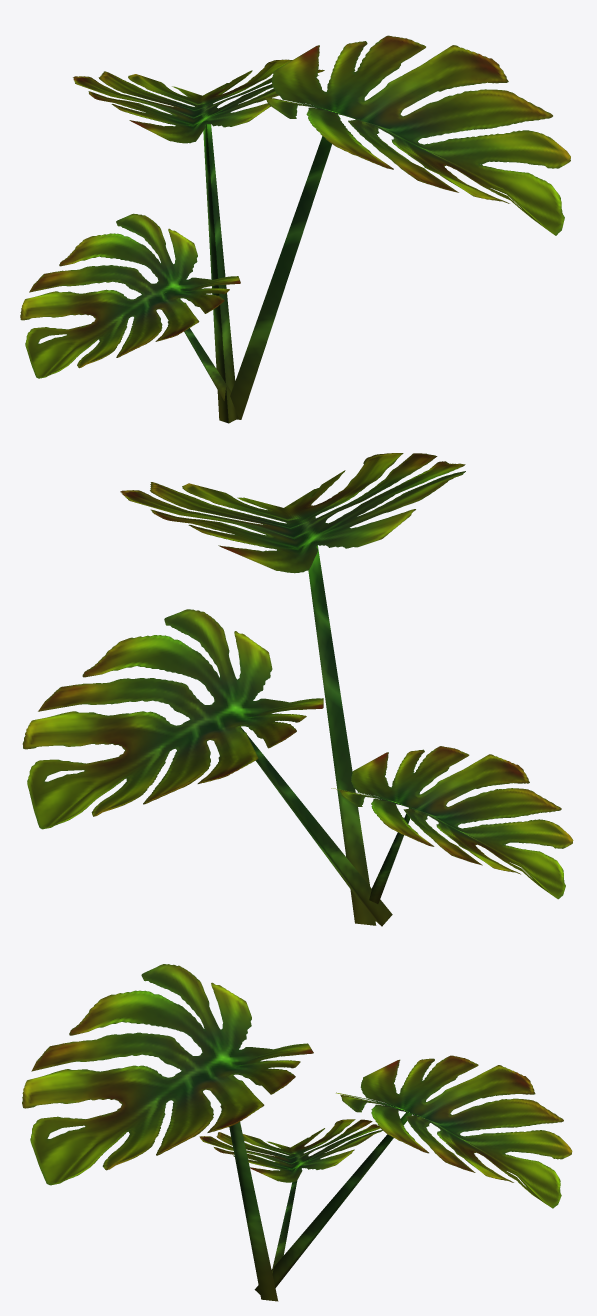
The model's file is fxmg_plant4.FBX.
The picture shows the model from 3 angles, top to bottom: view 1: azimuth 30°, elevation 25°; view 2: azimuth 150°, elevation 25°; view 3: azimuth 270°, elevation 25°; orthographic projection. The views are drawn at different scales.
Visible parts, largest first — view 1: KLMSM_plant4; view 2: KLMSM_plant4; view 3: KLMSM_plant4.
Part boxes in pixels (left/top/right/bottom): KLMSM_plant4: left=20, top=35, right=570, bottom=423; KLMSM_plant4: left=22, top=453, right=573, bottom=926; KLMSM_plant4: left=22, top=964, right=572, bottom=1301.
Bounding box in the file's own units: 532 × 414 × 648.
